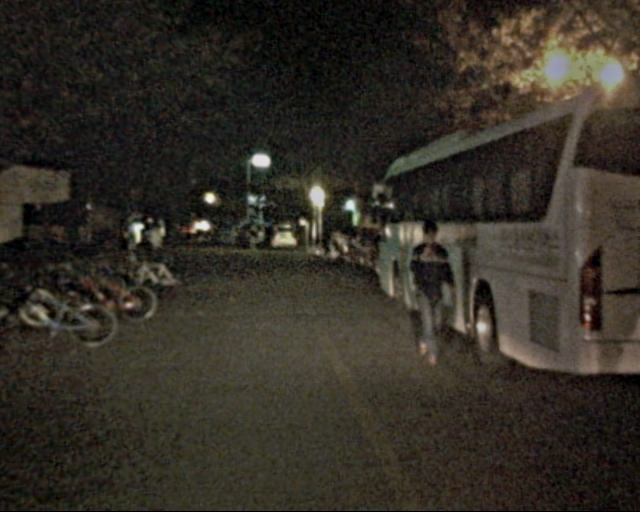person: (402, 211, 461, 368), (144, 219, 169, 279)
